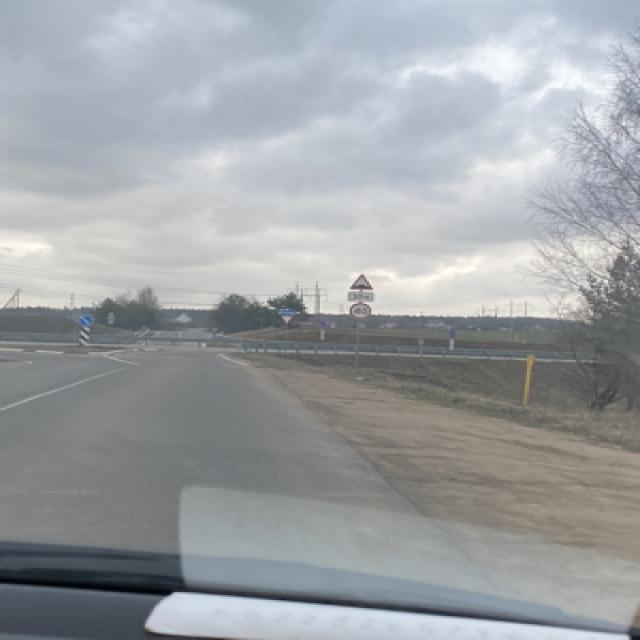speedlimit: (348, 302, 371, 317)
